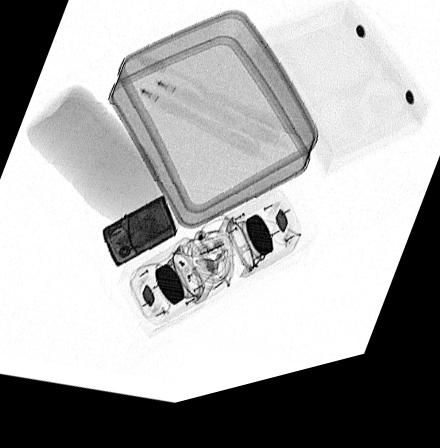Lighter: (102, 204, 176, 274)
